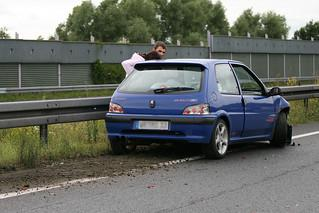fender-dent: (272, 96, 291, 112)
